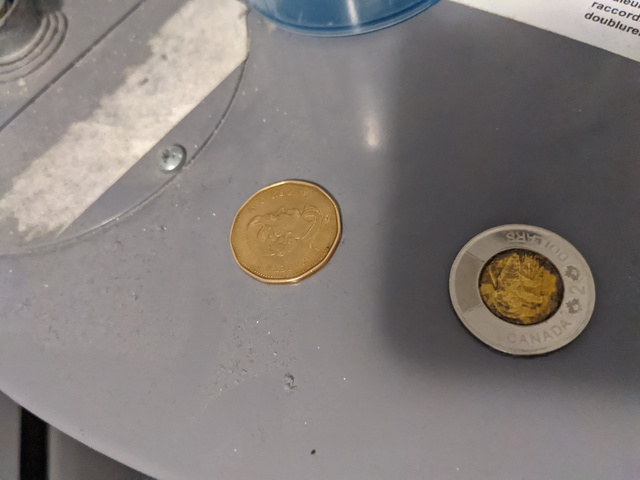loonie: (217, 179, 360, 287)
twonie: (438, 209, 605, 362)
